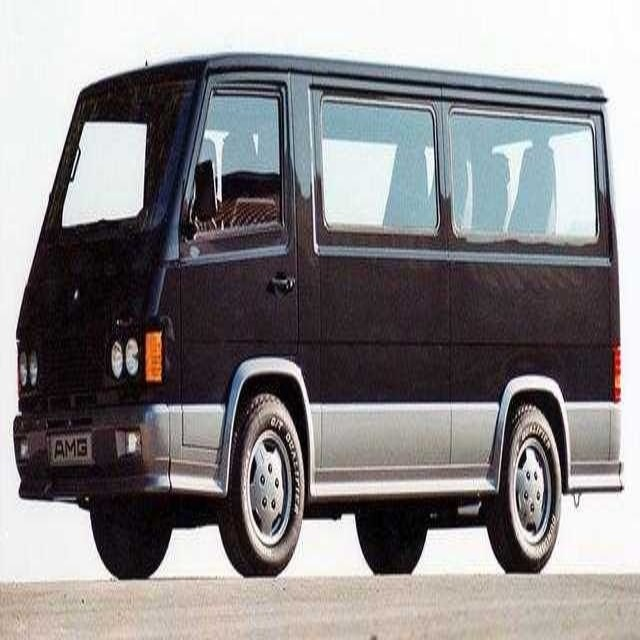Van: (13, 50, 624, 578)
